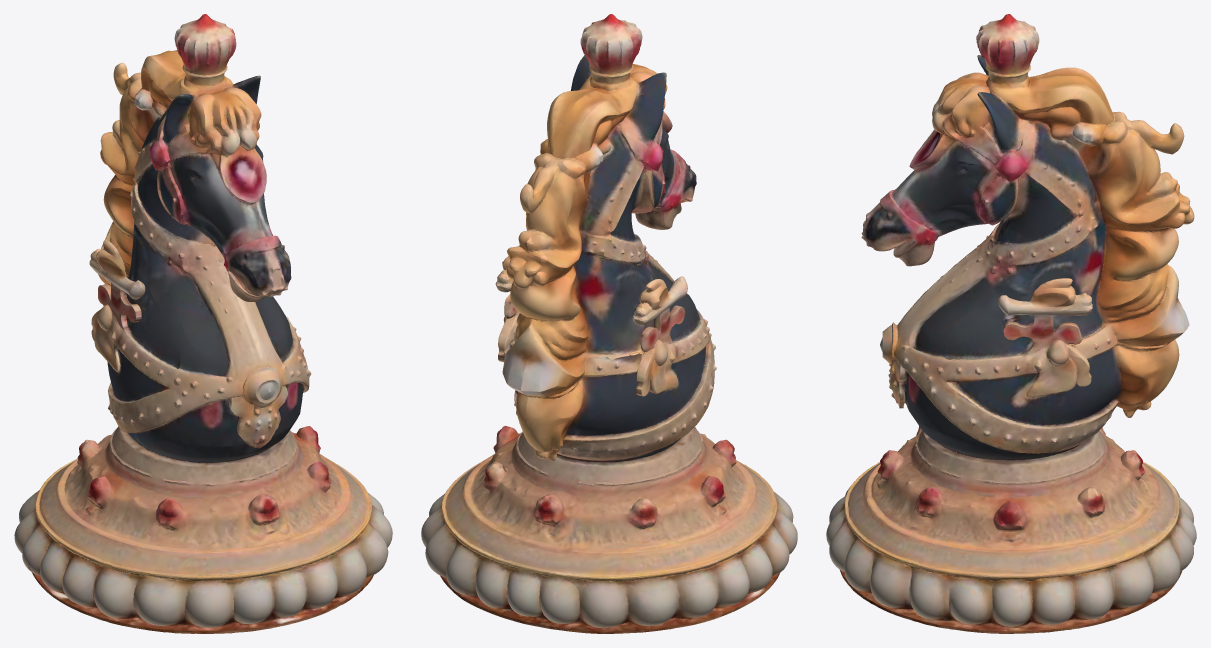
Rendered from knight_black.glb.
The picture shows the model from 3 angles, left to right: view 1: azimuth 30°, elevation 25°; view 2: azimuth 150°, elevation 25°; view 3: azimuth 270°, elevation 25°; orthographic projection.
Parts seen in each view (by area): view 1: model; view 2: model; view 3: model.
Part boxes in pixels (bbox=[...]): model: bbox=[14, 14, 392, 633]; model: bbox=[421, 14, 797, 633]; model: bbox=[826, 14, 1196, 633].
Size of the model in its own units: 1.16 by 1.9 by 1.16.
Materials: 1 (1 with a texture image).
